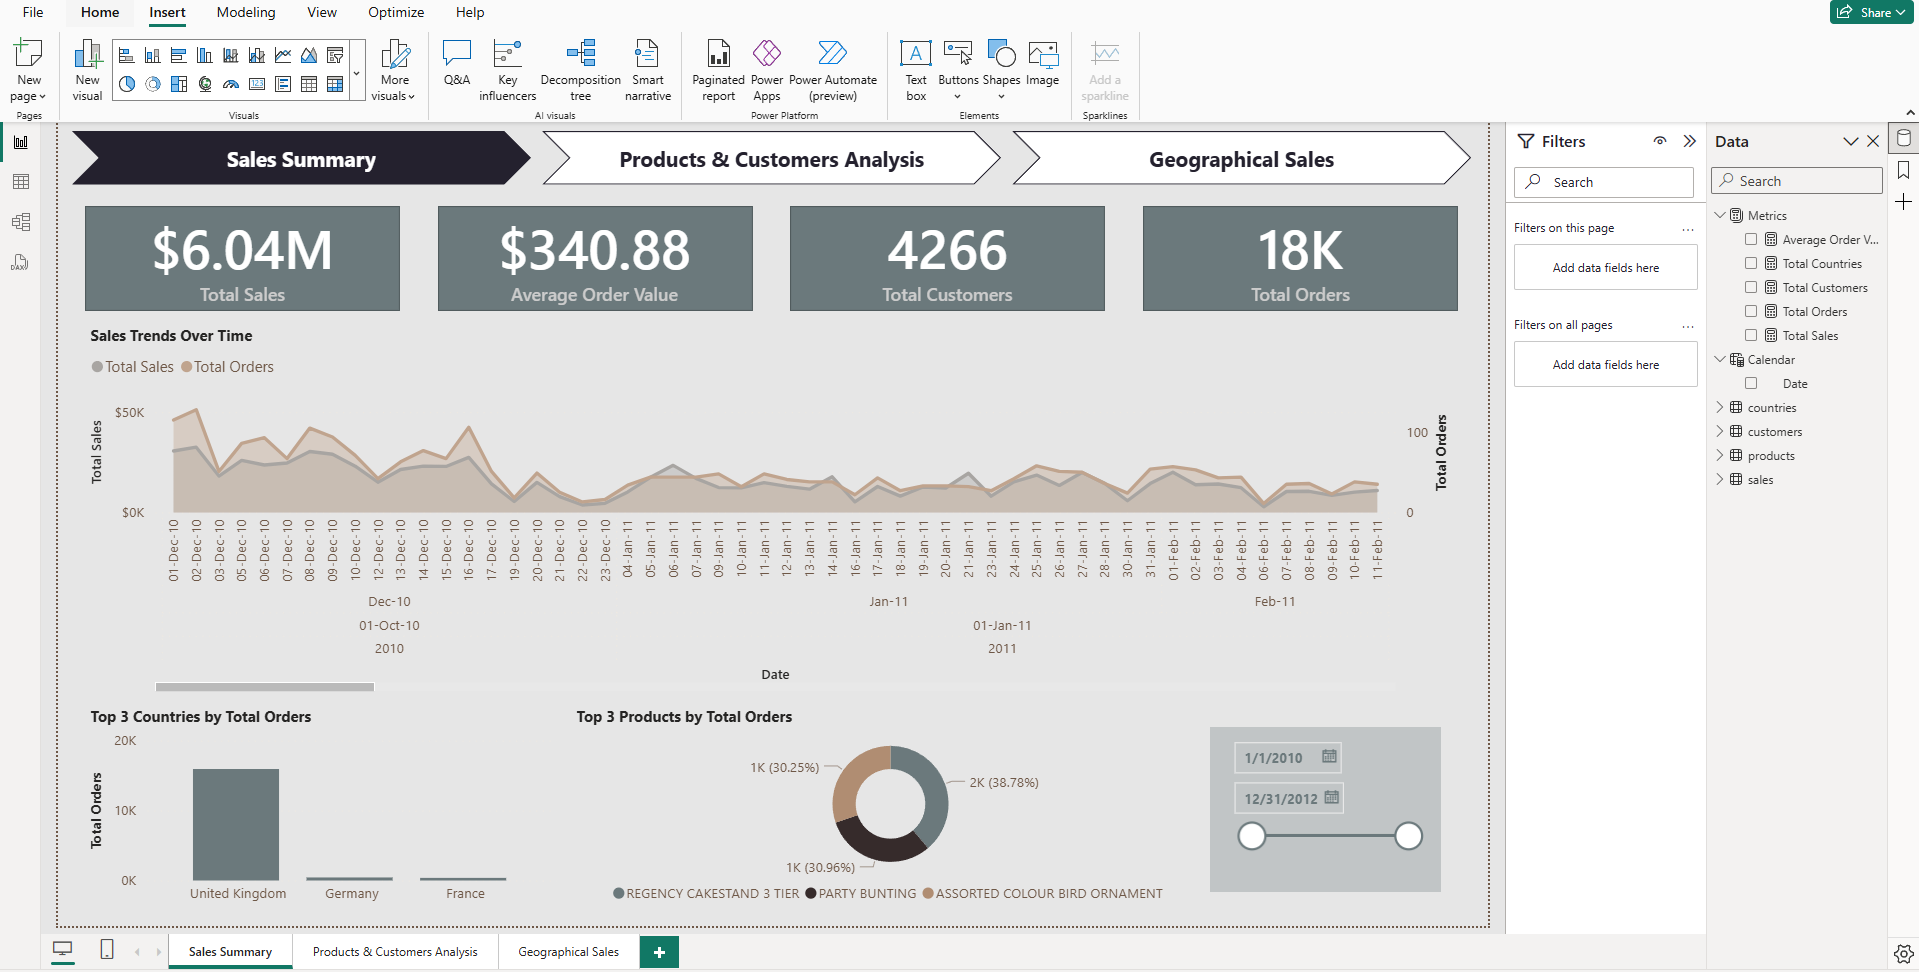

The dashboard page shown, as its layout file describes it:
{"tool":"powerbi","page":{"name":"Sales Summary","canvas":[1280,720],"ordinal":0},"visuals":[{"type":"pageNavigator","box":[12.5,8.1,1255.5,48.4],"z":0},{"type":"shape","box":[24.2,75.2,282.1,94],"z":1000},{"type":"shape","box":[340.3,75.2,282.1,94],"z":2000},{"type":"shape","box":[655.5,75.2,282.1,94],"z":3000},{"type":"shape","box":[971.6,75.2,282.1,94],"z":4000},{"type":"card","fields":{"Values":["Metrics.Total Sales"]},"box":[56.4,75.2,217.6,94],"z":5000},{"type":"card","fields":{"Values":["Metrics.Average Order Value"]},"box":[371.6,75.2,217.6,94],"z":6000},{"type":"card","fields":{"Values":["Metrics.Total Customers"]},"box":[687.8,75.2,217.6,94],"z":7000},{"type":"card","fields":{"Values":["Metrics.Total Orders"]},"box":[1003.9,75.2,217.6,94],"z":8000},{"type":"areaChart","title":"Sales Trends Over Time","fields":{"Category":["sales.Date Hierarchy.Year","sales.Date Hierarchy.Start of Quarter","sales.Date Hierarchy.MMM_YY","sales.Date Hierarchy.Date"],"Y":["Metrics.Total Sales"],"Y2":["Metrics.Total Orders"]},"box":[24.2,181.8,1229.6,333.1],"z":9000},{"type":"clusteredColumnChart","title":"Top 3 Countries by Total Orders","fields":{"Category":["countries.Country"],"Y":["Metrics.Total Orders"]},"box":[24.2,523,427.2,186.3],"z":10000},{"type":"donutChart","title":"Top 3 Products by Total Orders","fields":{"Y":["Metrics.Total Orders"],"Category":["products.Description"]},"box":[459.4,523,572.2,186.3],"z":11000},{"type":"shape","box":[1031.6,541.8,206.9,147.8],"z":12000},{"type":"slicer","fields":{"Values":["Calendar.Date"]},"box":[1040.6,545.4,189.9,140.6],"z":13000}]}

Visuals, with their boxes on the page's 1280x720 design canvas (x1, y1, x2, y2). These are canvas units, not pixel positions in the 1919x972 screenshot, which may show the page scaled, cropped or inside an application window:
pageNavigator: (x1=12, y1=8, x2=1268, y2=56)
shape: (x1=24, y1=75, x2=306, y2=169)
shape: (x1=340, y1=75, x2=622, y2=169)
shape: (x1=656, y1=75, x2=938, y2=169)
shape: (x1=972, y1=75, x2=1254, y2=169)
card - Metrics.Total Sales: (x1=56, y1=75, x2=274, y2=169)
card - Metrics.Average Order Value: (x1=372, y1=75, x2=589, y2=169)
card - Metrics.Total Customers: (x1=688, y1=75, x2=905, y2=169)
card - Metrics.Total Orders: (x1=1004, y1=75, x2=1222, y2=169)
"Sales Trends Over Time" areaChart: (x1=24, y1=182, x2=1254, y2=515)
"Top 3 Countries by Total Orders" clusteredColumnChart: (x1=24, y1=523, x2=451, y2=709)
"Top 3 Products by Total Orders" donutChart: (x1=459, y1=523, x2=1032, y2=709)
shape: (x1=1032, y1=542, x2=1238, y2=690)
slicer - Calendar.Date: (x1=1041, y1=545, x2=1230, y2=686)
